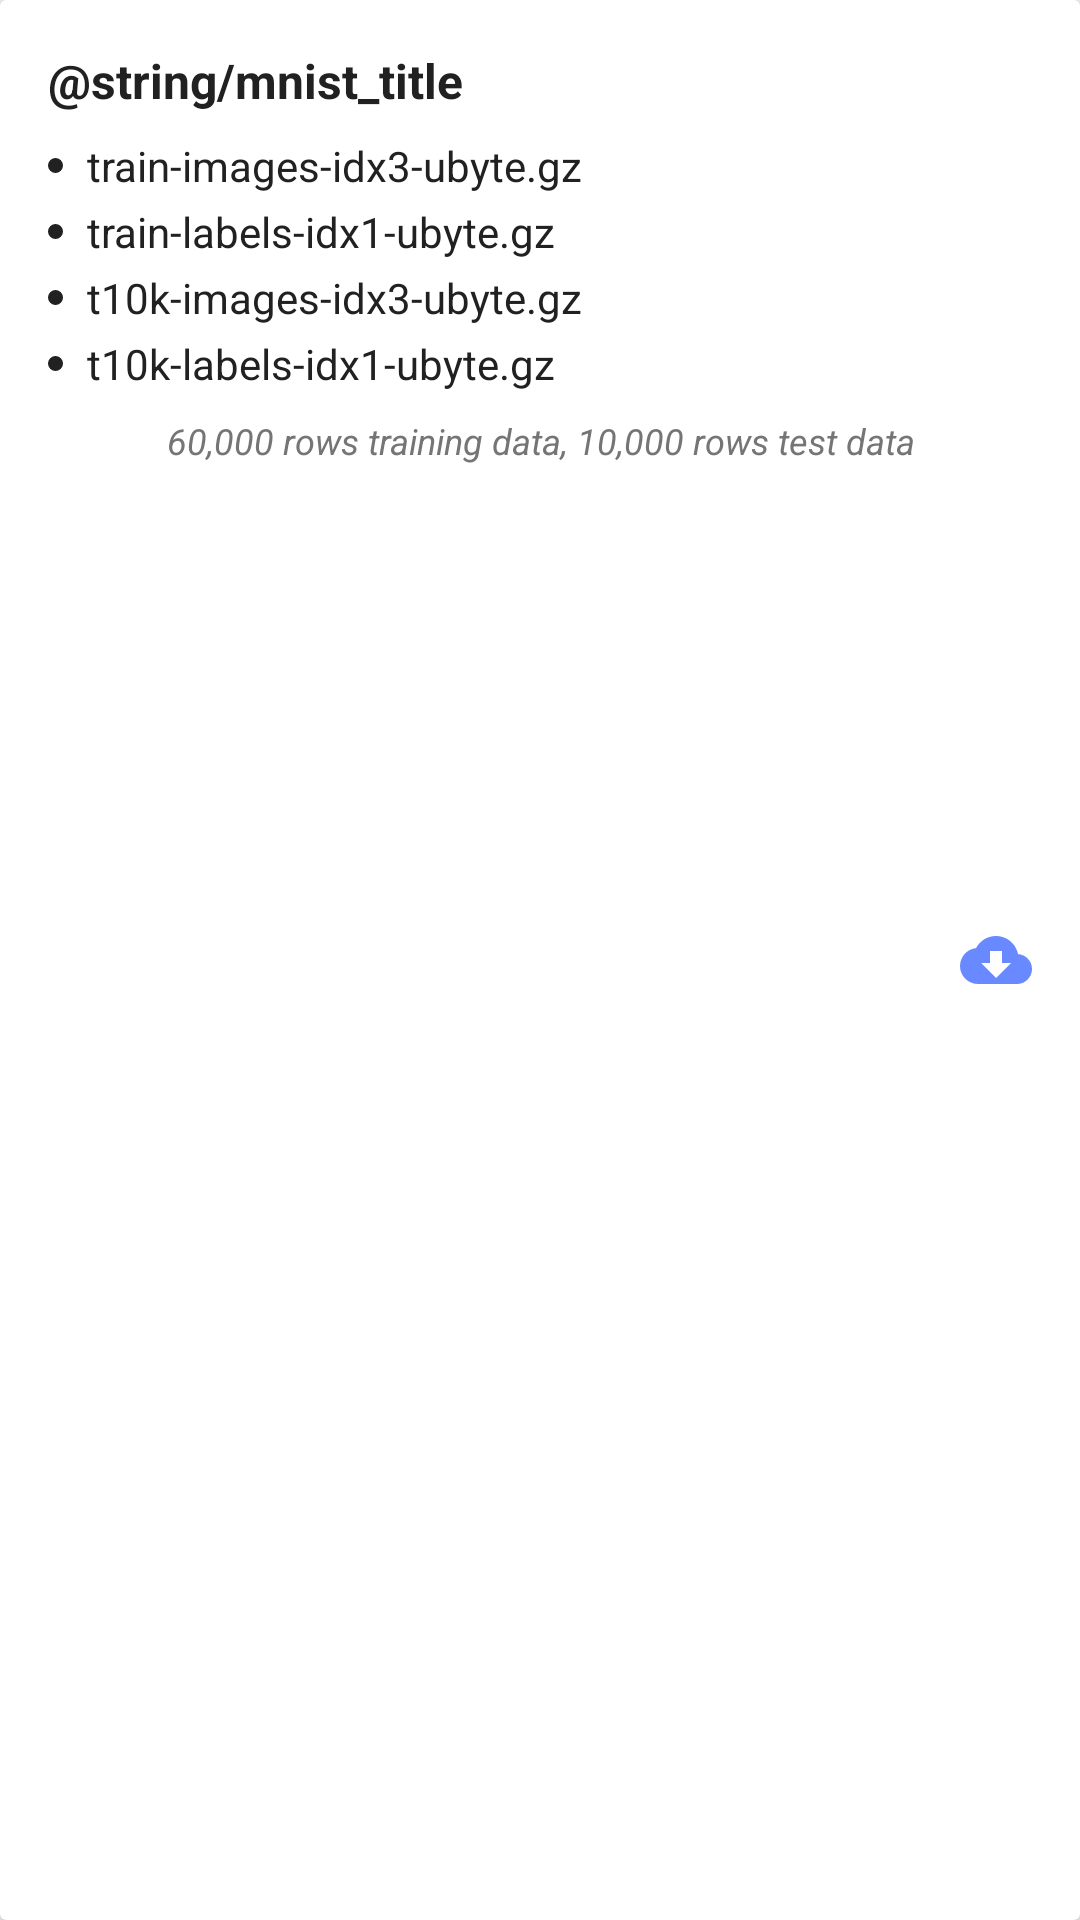

Named icons in this screenshot (1080px×1920px) and their centers, (x=x, y=y):
state download: (x=996, y=960)
